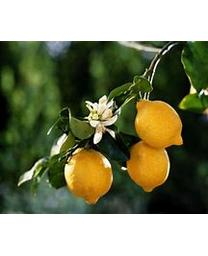lemon: (65, 147, 114, 205), (136, 99, 182, 149), (127, 141, 170, 191)
